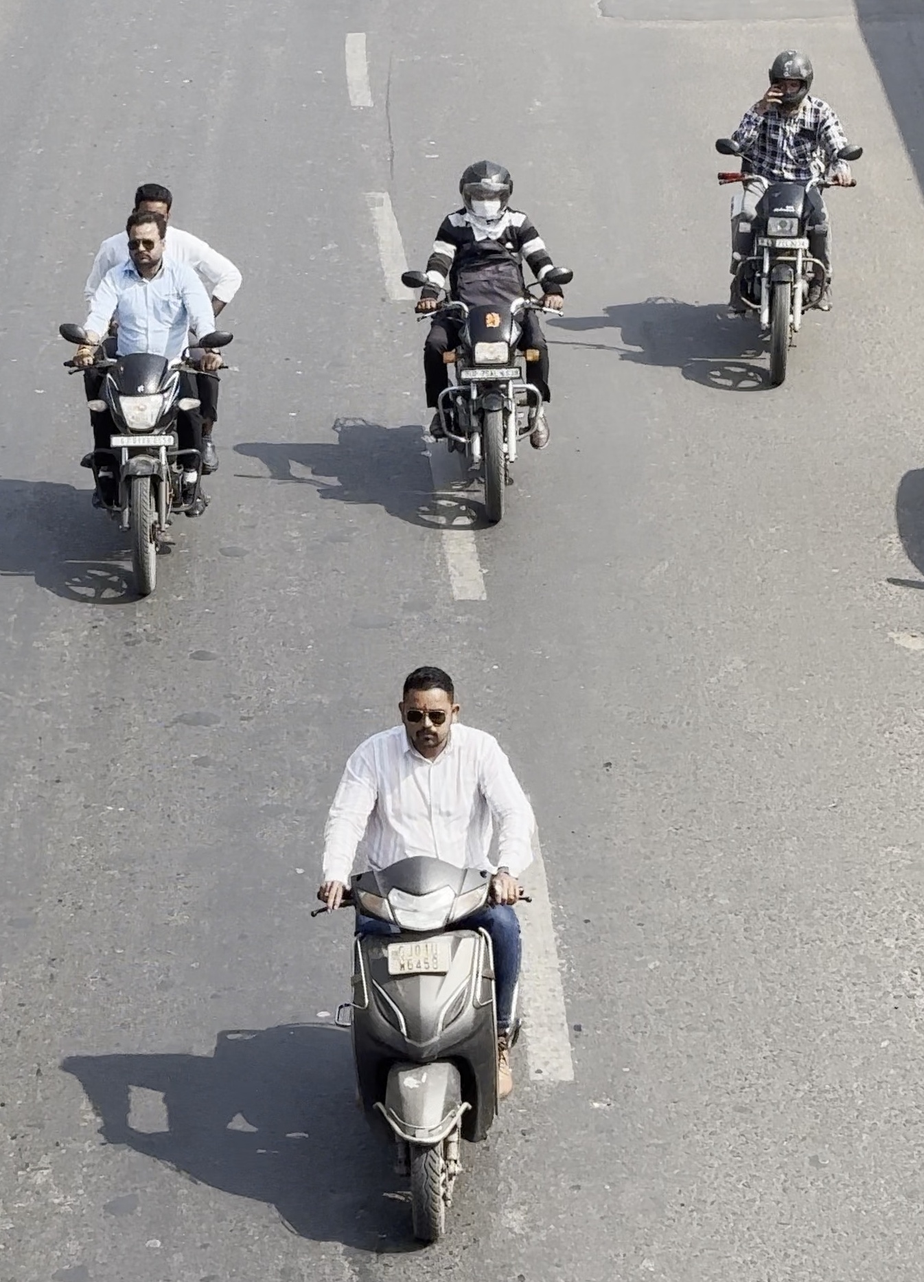BikeWithRider: (293, 654, 559, 1250), (42, 172, 252, 611), (386, 152, 577, 529), (695, 41, 866, 400)
Helmet: (451, 155, 520, 224), (759, 45, 821, 108)
NoHelmet: (384, 661, 468, 768), (109, 209, 178, 276), (127, 177, 176, 238)
